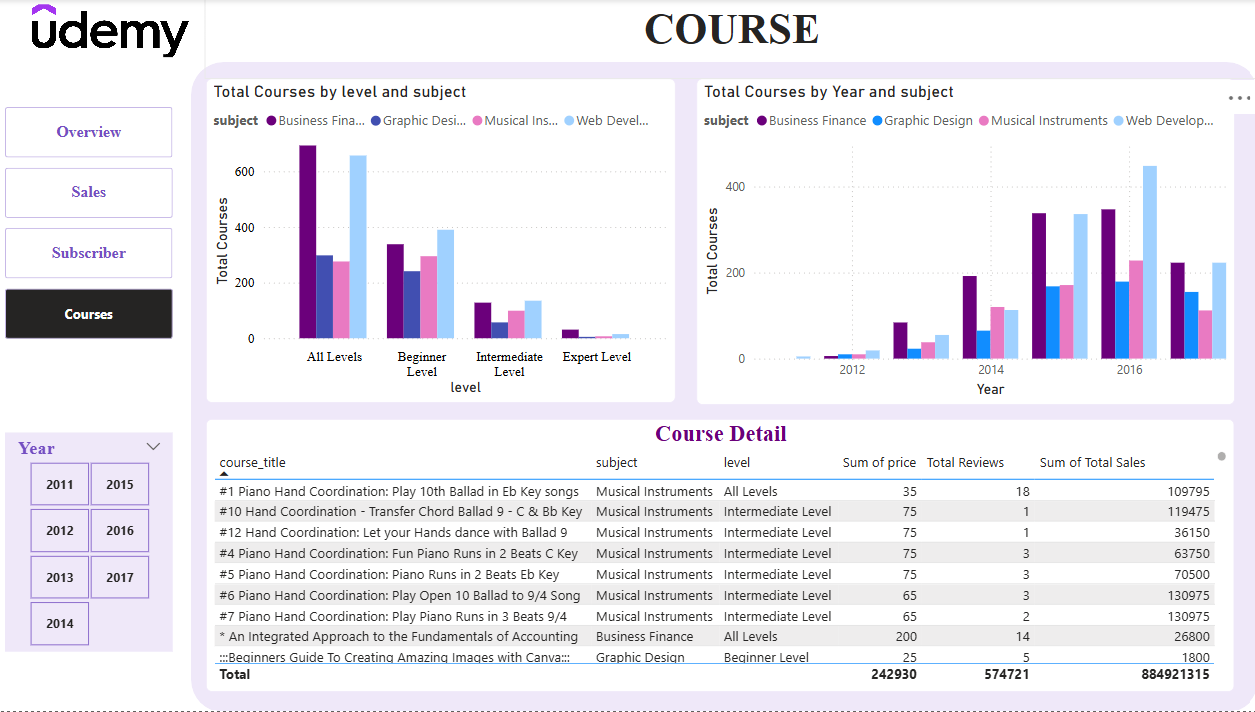

What the dashboard file says about the page in this screenshot:
{"tool":"powerbi","page":{"name":"Courses ","canvas":[1280,720],"ordinal":3},"visuals":[{"type":"shape","box":[200.3,63.6,1078.5,656.7],"z":0},{"type":"clusteredColumnChart","fields":{"Category":["Udemy Courses Dataset.published_timestamp.Variation.Date Hierarchy.Year"],"Series":["Udemy Courses Dataset.subject"],"Y":["Udemy Courses Dataset.Total Courses"]},"box":[710.6,80.9,543.1,329.3],"z":1000},{"type":"clusteredColumnChart","fields":{"Y":["Udemy Courses Dataset.Total Courses"],"Category":["Udemy Courses Dataset.level"],"Series":["Udemy Courses Dataset.subject"]},"box":[215.7,80.9,473.7,327.4],"z":2000},{"type":"tableEx","title":"Course Detail ","fields":{"Values":["Udemy Courses Dataset.course_title","Udemy Courses Dataset.subject","Udemy Courses Dataset.level","Sum(Udemy Courses Dataset.price)","Udemy Courses Dataset.Total Reviews","Sum(Udemy Courses Dataset.Total Sales)"]},"box":[215.7,423.7,1038,275.4],"z":3000},{"type":"image","box":[22.3,0,190.9,63.6],"z":4000},{"type":"pageNavigator","box":[11.6,109.8,169.5,234.9],"z":5000},{"type":"slicer","fields":{"Values":["Udemy Courses Dataset.published_timestamp.Variation.Date Hierarchy.Year"]},"box":[11.6,437.2,169.5,221.5],"z":6000},{"type":"textbox","box":[213.8,0,1065,80.9],"z":7000}]}

Visuals, with their boxes in screenshot pixels (x1, y1, x2, y2), scaled from the page's 1280x720 canvas onto the 1255x712 screenshot:
shape: x1=196, y1=63, x2=1254, y2=711
clusteredColumnChart - Udemy Courses Dataset.published_timestamp.Variation.Date Hierarchy.Year x Udemy Courses Dataset.subject: x1=697, y1=80, x2=1229, y2=406
clusteredColumnChart - Udemy Courses Dataset.Total Courses x Udemy Courses Dataset.level: x1=211, y1=80, x2=676, y2=404
"Course Detail " tableEx: x1=211, y1=419, x2=1229, y2=691
image: x1=22, y1=0, x2=209, y2=63
pageNavigator: x1=11, y1=109, x2=178, y2=341
slicer - Udemy Courses Dataset.published_timestamp.Variation.Date Hierarchy.Year: x1=11, y1=432, x2=178, y2=651
textbox: x1=210, y1=0, x2=1254, y2=80
